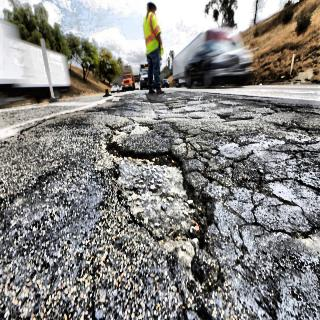alligator-crack: (213, 94, 281, 266)
pothole: (100, 126, 200, 291)
